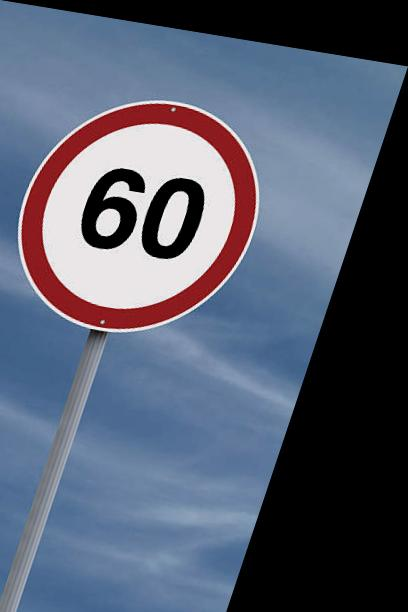Speed Limit -60-: (1, 75, 302, 340)
